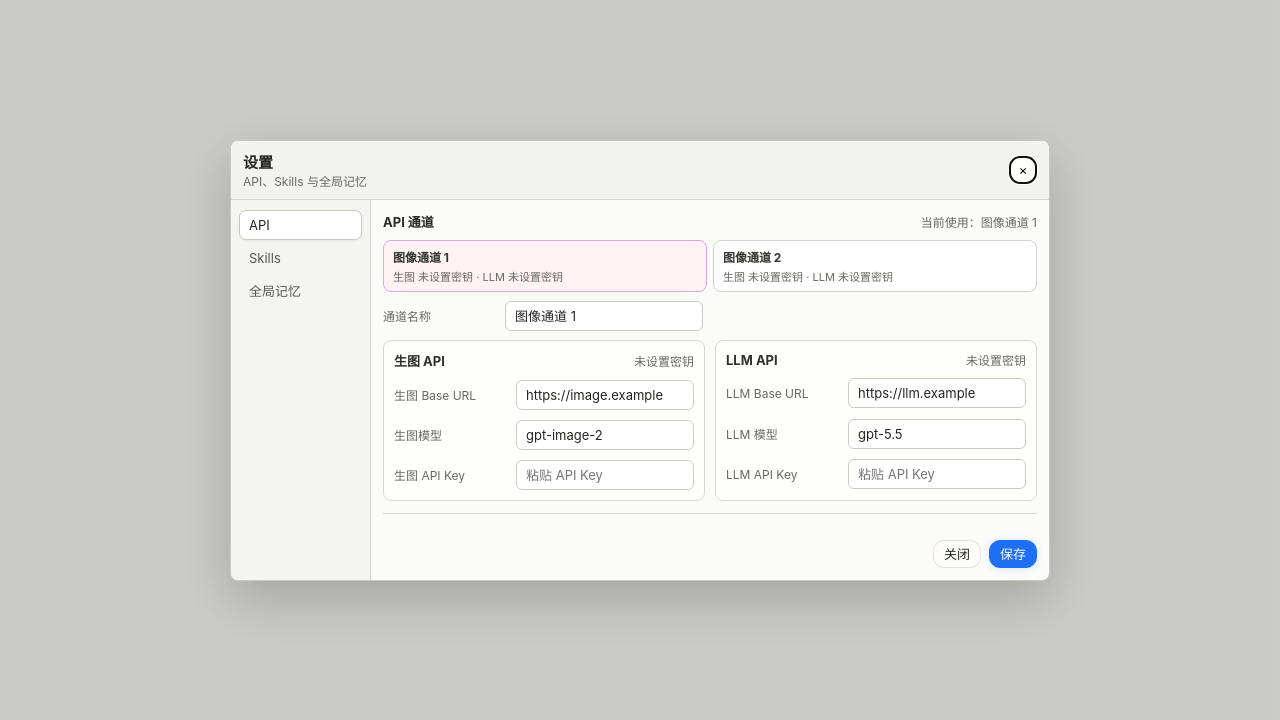
ApiSettingsDialog › can install a skill from Git URL and view SKILL.md
Click the tab "Skills" at (300, 258), box [239,242,362,272]
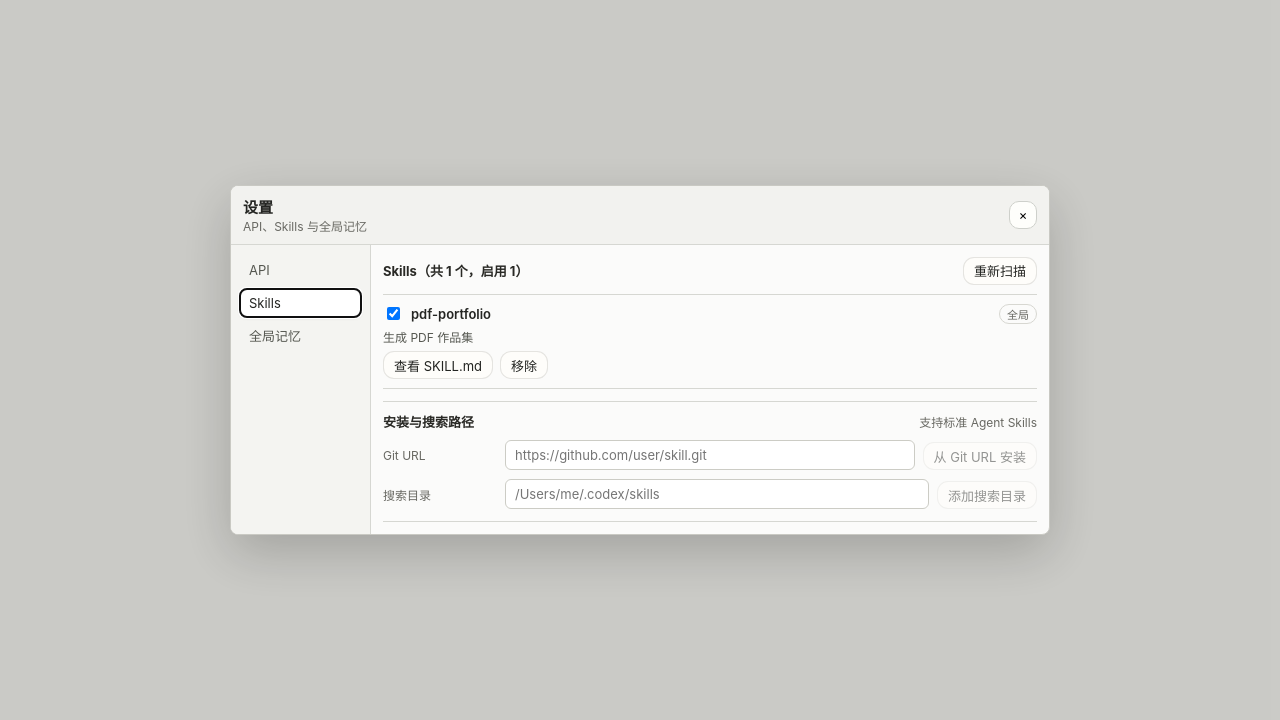
Type "https://github.com/acme/pdf-portfolio.git" into the field labelled "Git URL" at (710, 455), box [505,440,914,470]
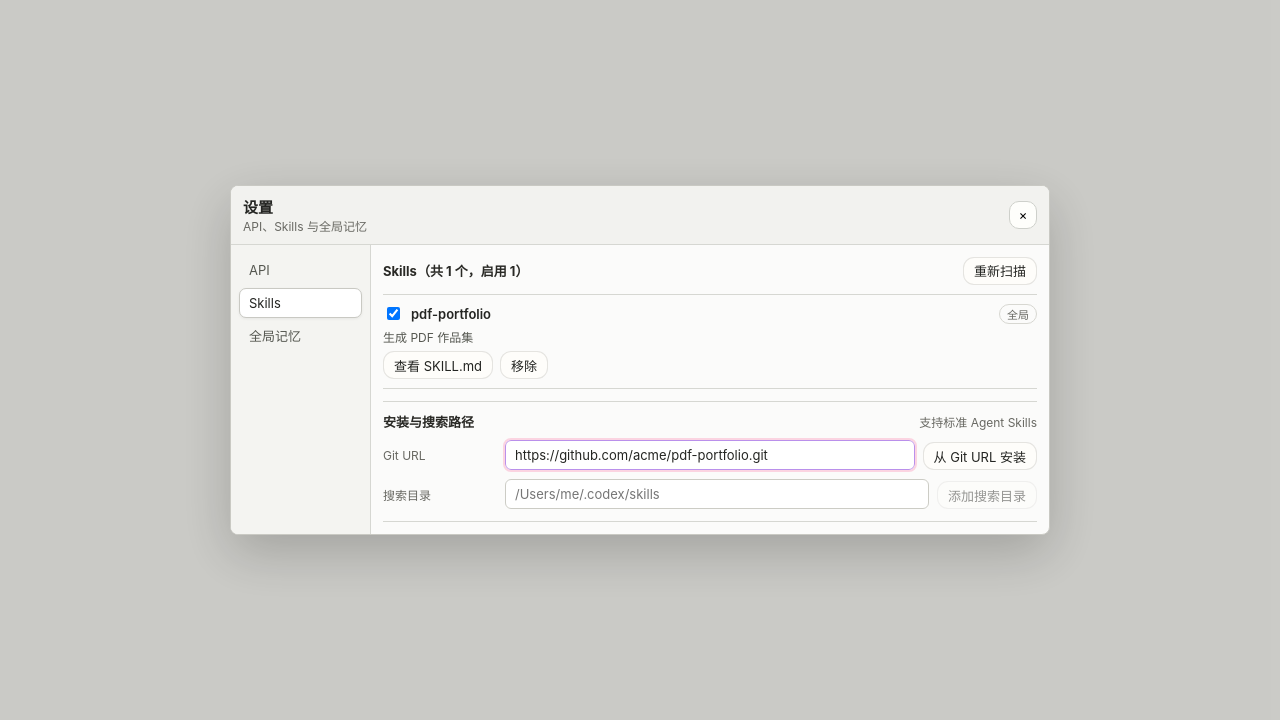
Click the button "从 Git URL 安装" at (980, 456), box [922,442,1037,470]
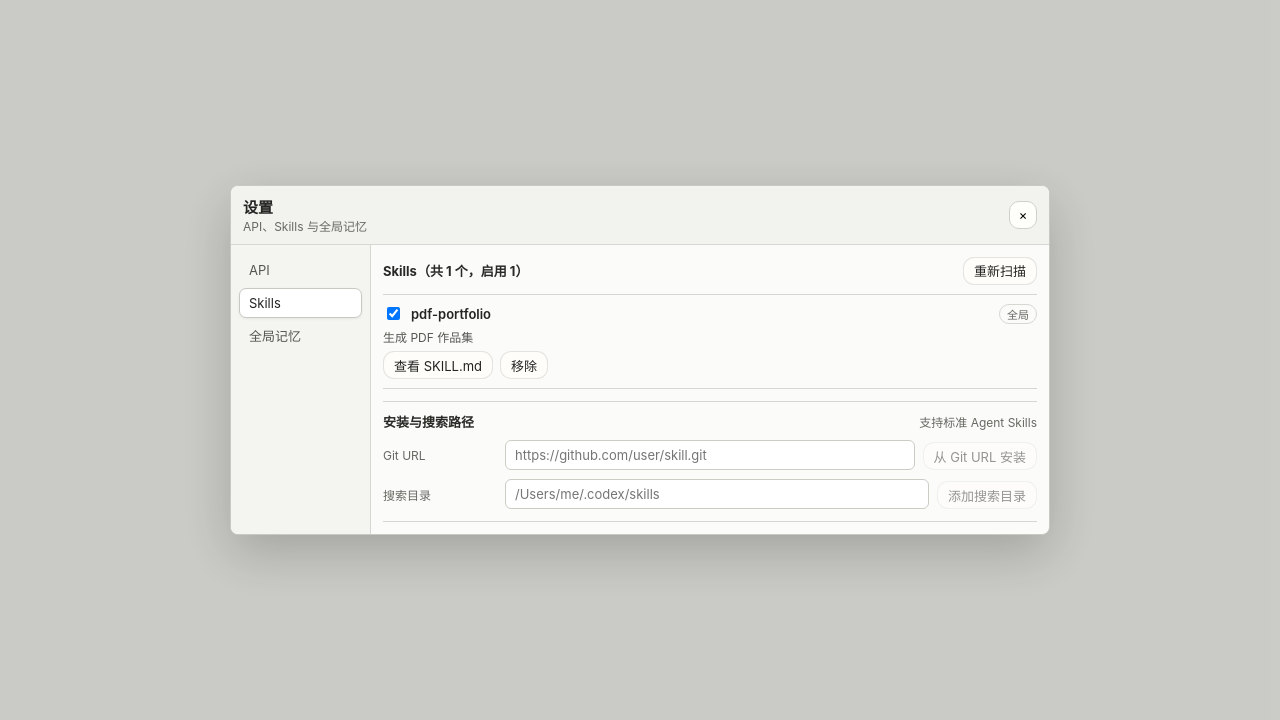
Click the button "查看 SKILL.md" at (438, 365), box [383,351,493,379]
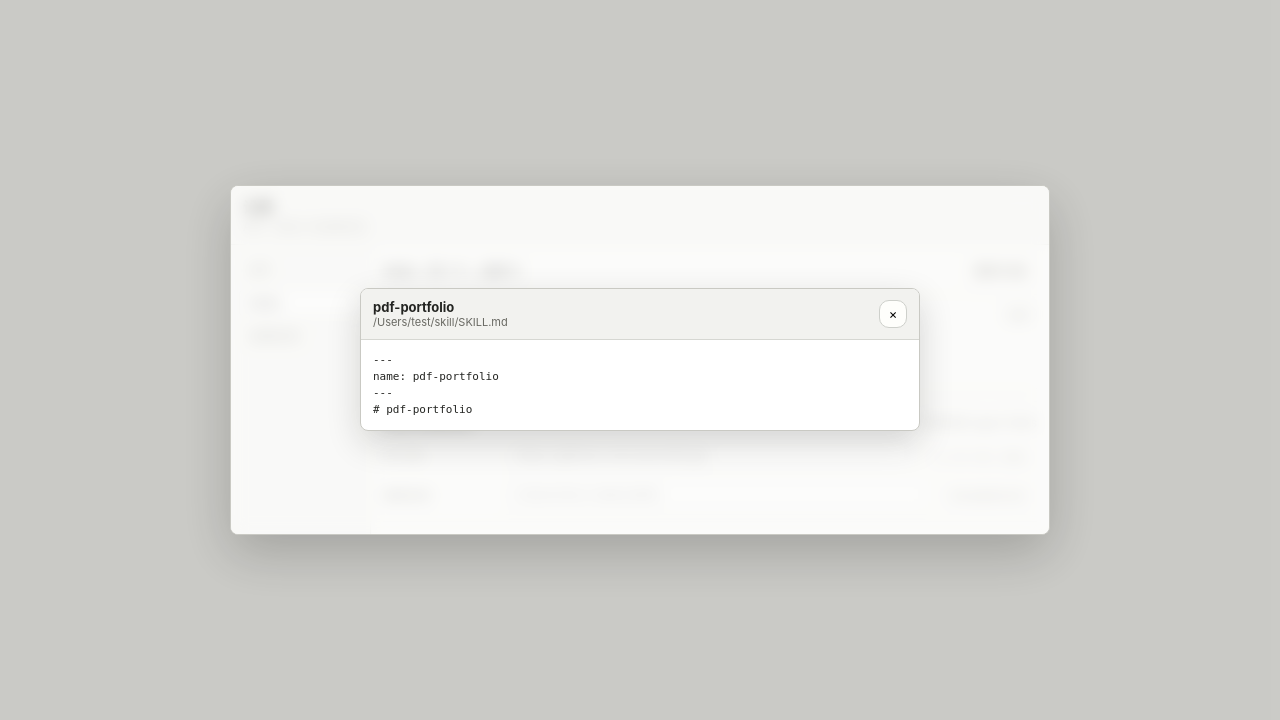
Result: the dialog named "pdf-portfolio SKILL.md" is shown at [231,186,1049,534]
Result: the text "--- name: pdf-portfolio --- # pdf-portfolio" is shown at [373,354,499,416]
